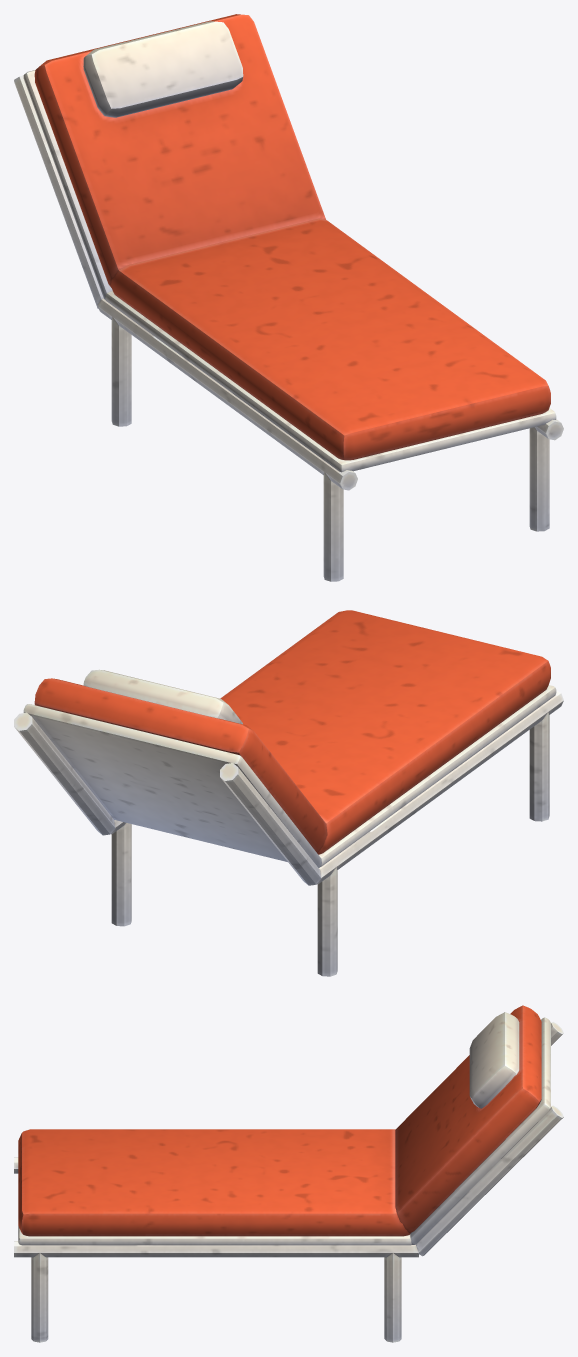
File: Stage_Pool_Lounger.glb
3 views of the same model, one above another, from view 1: azimuth 30°, elevation 25°; view 2: azimuth 150°, elevation 25°; view 3: azimuth 270°, elevation 25° (orthographic). The views are drawn at different scales.
Visible parts, largest first — view 1: Stage_Pool_Lounger; view 2: Stage_Pool_Lounger; view 3: Stage_Pool_Lounger.
Boxes of the visible parts, x1,y1,x2,y2 form: Stage_Pool_Lounger: (14, 14, 563, 581); Stage_Pool_Lounger: (14, 610, 563, 976); Stage_Pool_Lounger: (14, 1005, 563, 1342).
Size of the model in its own units: 2.5 by 3.34 by 6.38.
1 material, 1 textured.
